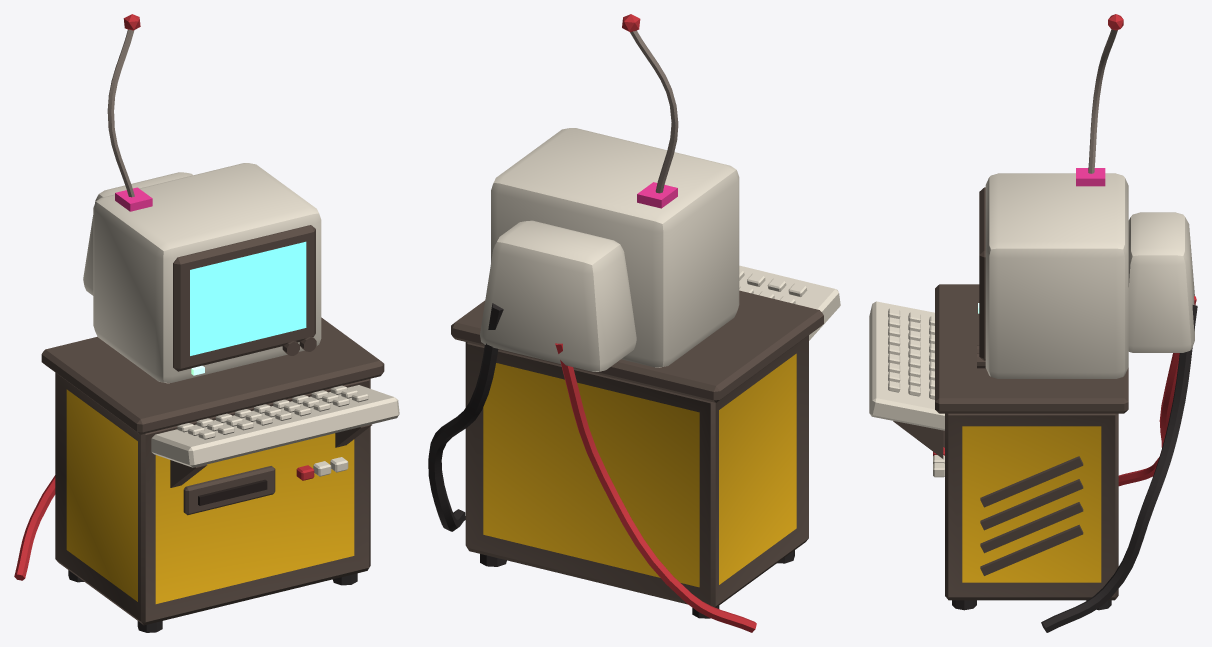
The model's file is console__upper.glb.
The picture shows the model from 3 angles, left to right: view 1: azimuth 30°, elevation 25°; view 2: azimuth 150°, elevation 25°; view 3: azimuth 270°, elevation 25°; orthographic projection. The views are drawn at different scales.
Visible parts, largest first — view 1: Body, Screen; view 2: Body; view 3: Body.
Boxes of the visible parts, <box> form: Body: <box>14,14,399,632</box>; Screen: <box>190,241,306,355</box>; Body: <box>428,14,840,632</box>; Body: <box>869,14,1197,632</box>.
Size of the model in its own units: 0.8443 by 1.38 by 0.7805.
